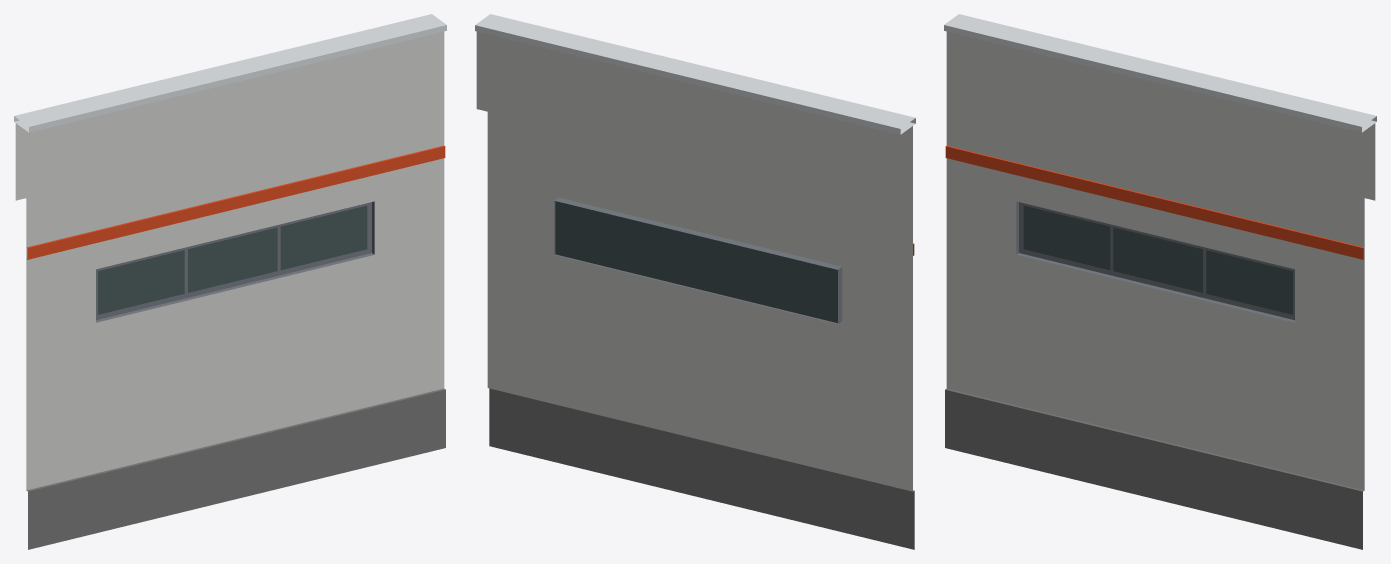
The picture shows the model from 3 angles, left to right: view 1: azimuth 30°, elevation 25°; view 2: azimuth 150°, elevation 25°; view 3: azimuth 330°, elevation 25°; orthographic projection.
Parts seen in each view (by area): view 1: a2003/400/base-w4; view 2: a2003/400/base-w4; view 3: a2003/400/base-w4.
Boxes of the visible parts, x1,y1,x2,y2 form: a2003/400/base-w4: (14,14,446,549); a2003/400/base-w4: (475,14,915,549); a2003/400/base-w4: (944,14,1376,549).
Bounding box in the file's own units: 4.5 × 4.36 × 0.28.
